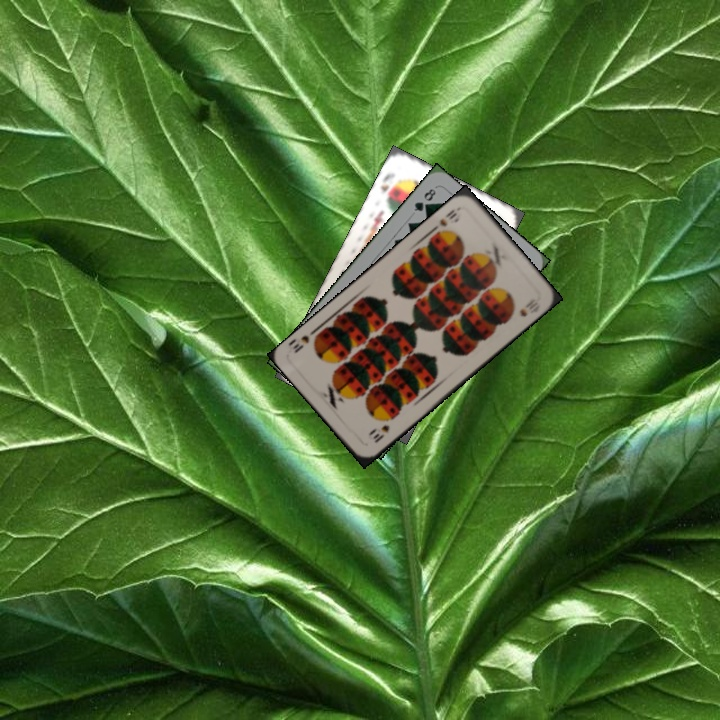G8: (410, 184, 439, 214)
S10: (428, 205, 459, 233), (366, 421, 392, 446)
SK: (376, 169, 398, 195)
